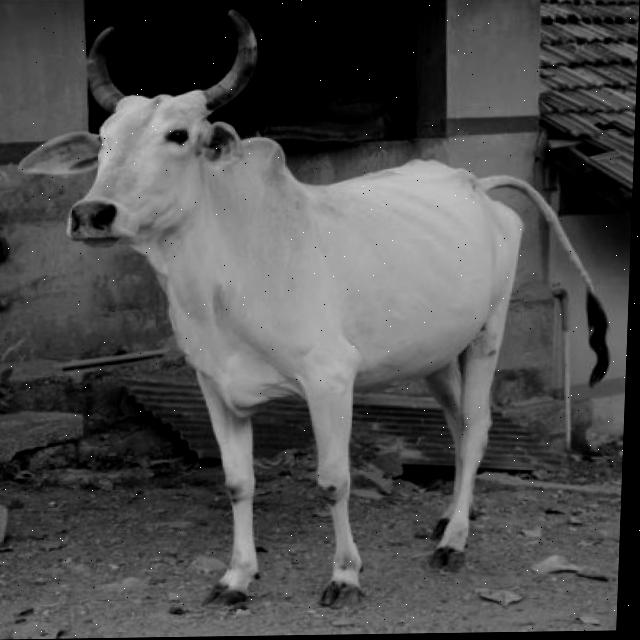Cow: (0, 1, 622, 614)
